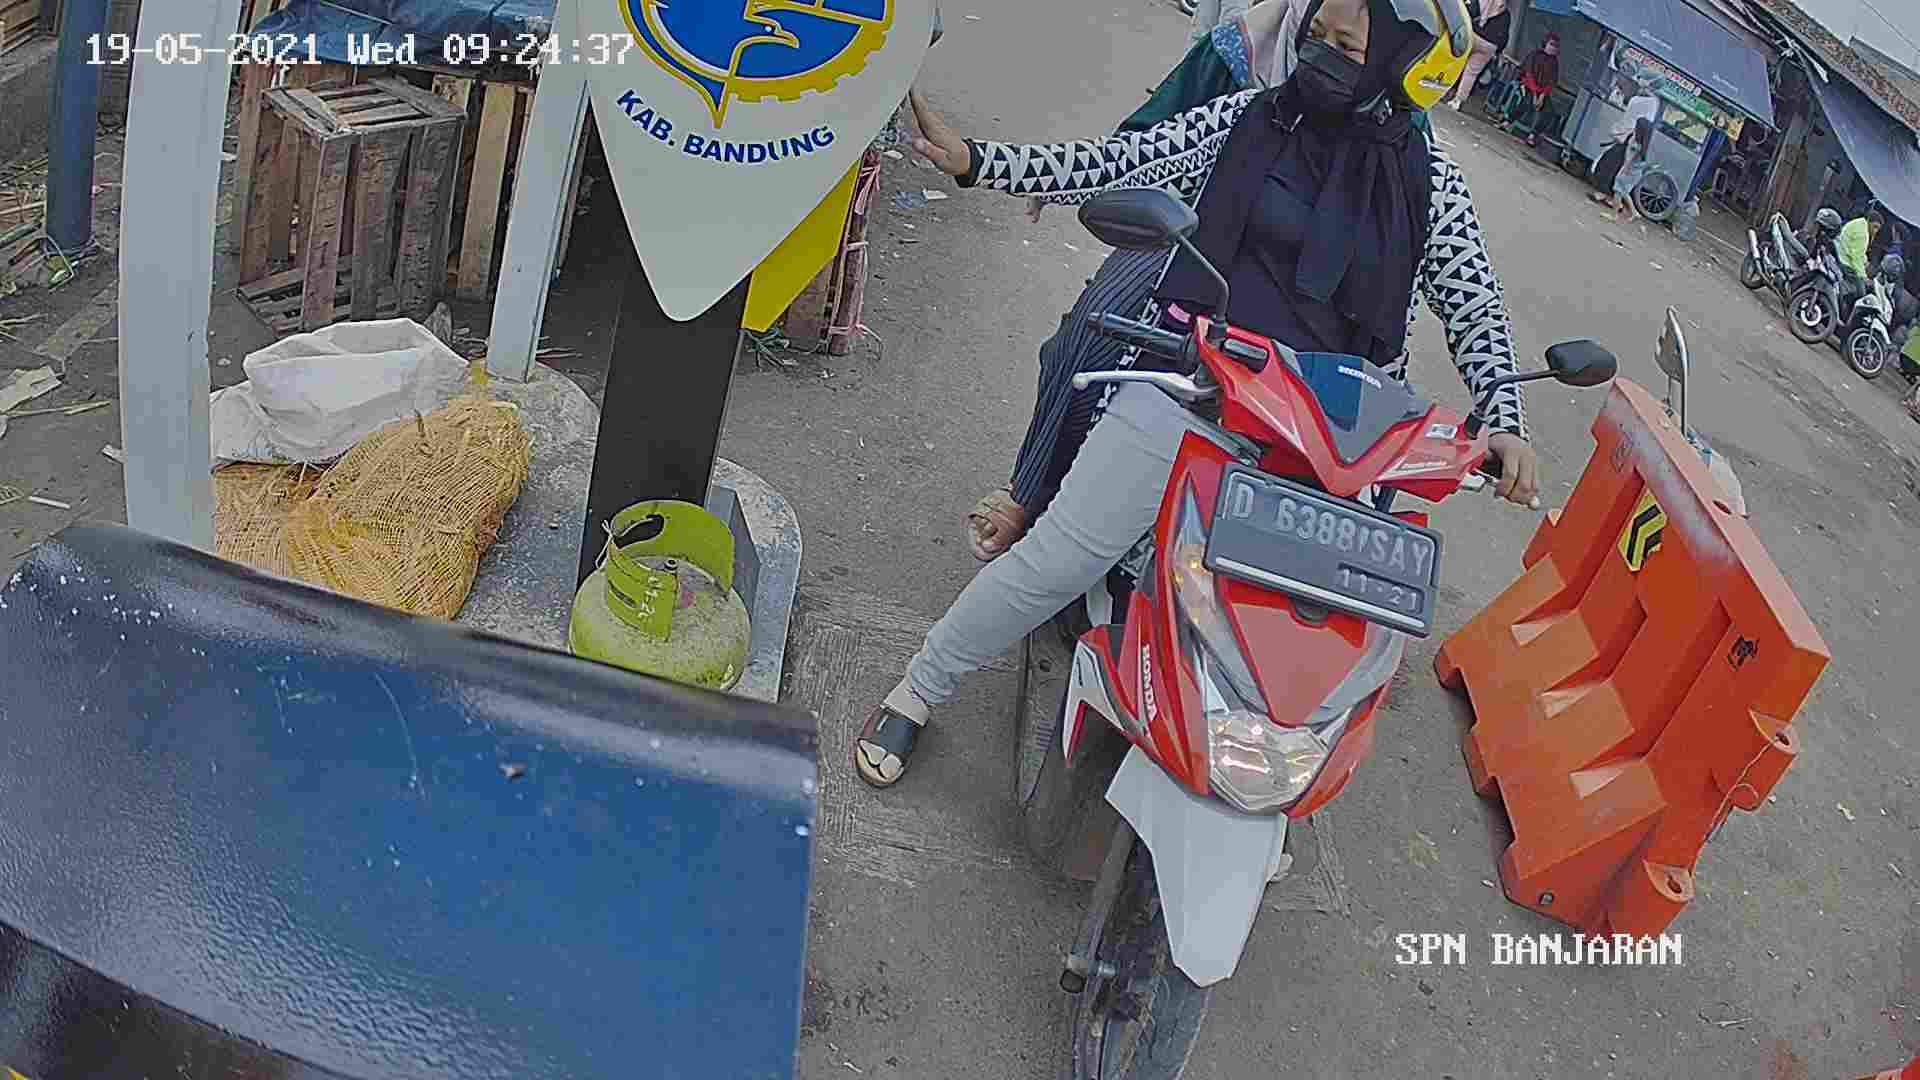motor: (1019, 281, 1447, 1080)
